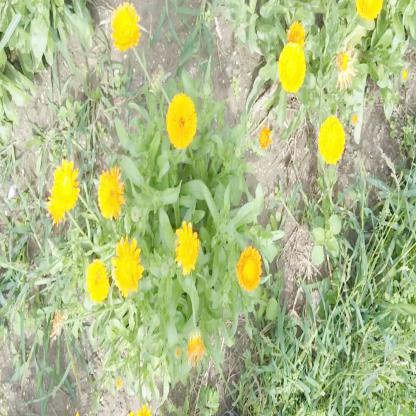marigold: (51, 162, 78, 223), (113, 239, 142, 295), (166, 95, 196, 148), (279, 40, 305, 95), (108, 4, 140, 48), (98, 168, 122, 218), (176, 223, 198, 276), (320, 114, 344, 161), (238, 248, 262, 292), (87, 260, 107, 305), (288, 20, 306, 44)
